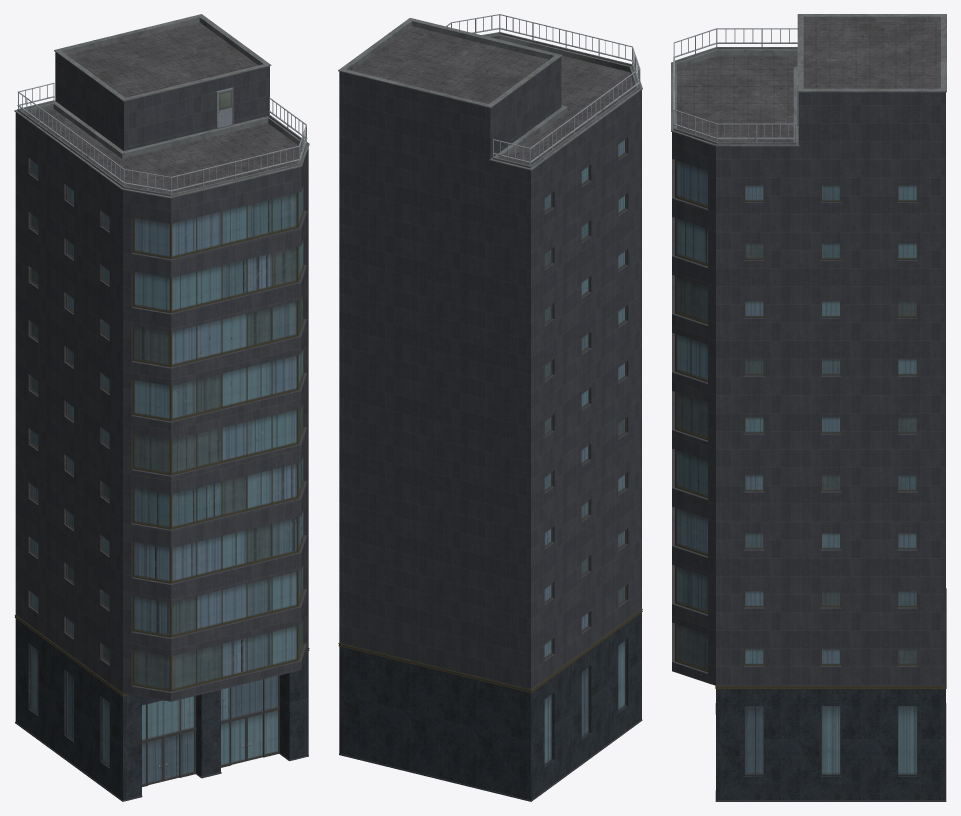
The model's file is jctBld12_C.fbx.
The picture shows the model from 3 angles, left to right: view 1: azimuth 30°, elevation 25°; view 2: azimuth 150°, elevation 25°; view 3: azimuth 270°, elevation 25°; orthographic projection. The views are drawn at different scales.
Parts seen in each view (by area): view 1: jctBld12_C_LOD0; view 2: jctBld12_C_LOD0; view 3: jctBld12_C_LOD0.
Part boxes in pixels (<box>): jctBld12_C_LOD0: <box>14,14,309,801</box>; jctBld12_C_LOD0: <box>338,14,642,801</box>; jctBld12_C_LOD0: <box>671,14,946,801</box>.
Bounding box in the file's own units: 1160 × 3925 × 1380.
